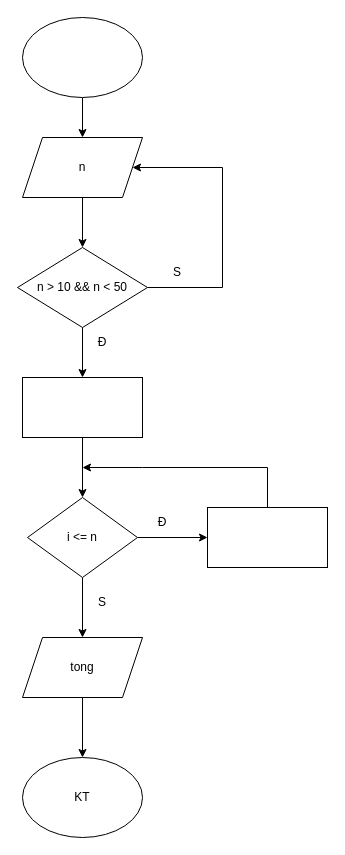
Some shapes in this 345 by 855 pixel diagram are drawn without their labels. The centre of each missing label's shape, as x and y in pixels:
"BĐ" belongs at pixel 82 57.
"tong = 0 i = 1" belongs at pixel 82 407.
"tong = tong + i" belongs at pixel 267 537.
